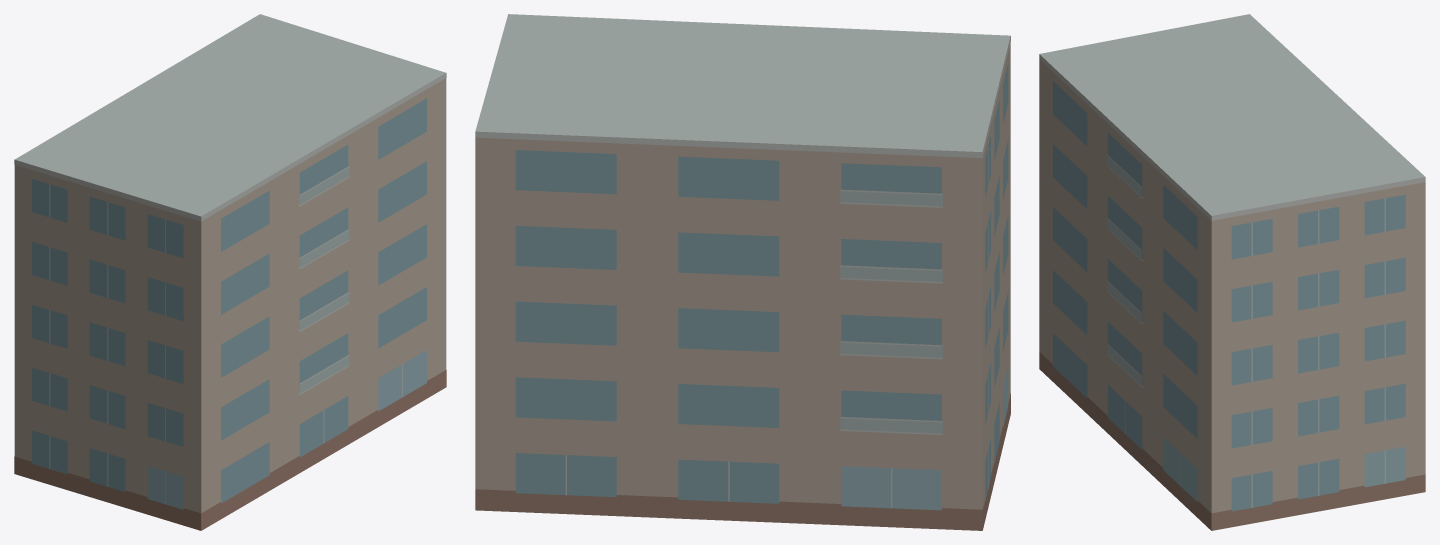
Rendered from survey-upis-32712639.glb.
The picture shows the model from 3 angles, left to right: view 1: azimuth 30°, elevation 25°; view 2: azimuth 150°, elevation 25°; view 3: azimuth 270°, elevation 25°; orthographic projection. The views are drawn at different scales.
Visible parts, largest first — view 1: survey-upis-32712639.tmp; view 2: survey-upis-32712639.tmp; view 3: survey-upis-32712639.tmp.
Part boxes in pixels (<box>): survey-upis-32712639.tmp: <box>14,14,446,530</box>; survey-upis-32712639.tmp: <box>475,14,1010,530</box>; survey-upis-32712639.tmp: <box>1039,14,1425,530</box>.
Size of the model in its own units: 20.97 by 15.25 by 16.96.
